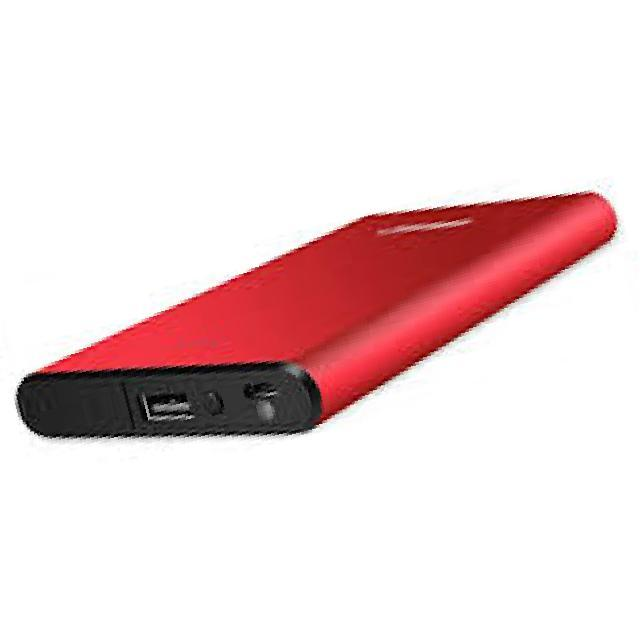Battery: (13, 114, 640, 542)
